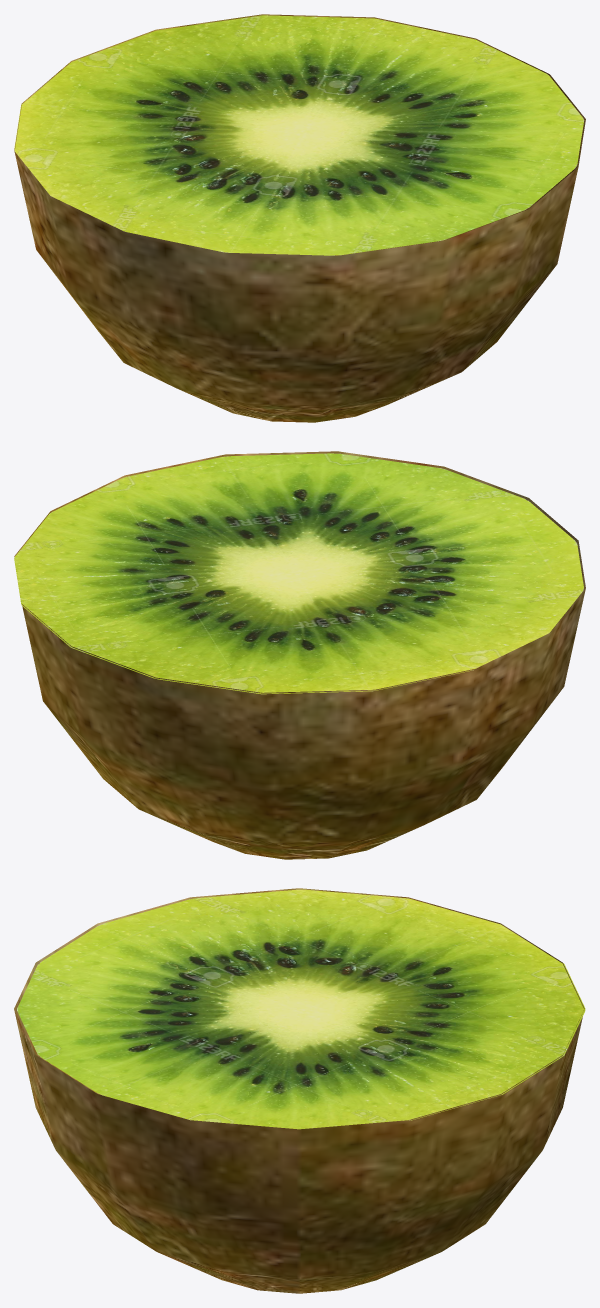
The model's file is kiwi.fbx.
3 views of the same model, one above another, from view 1: azimuth 30°, elevation 25°; view 2: azimuth 150°, elevation 25°; view 3: azimuth 270°, elevation 25° (orthographic).
Visible parts, largest first — view 1: Disc, Orange; view 2: Disc, Orange; view 3: Disc, Orange.
Boxes of the visible parts, bbox=[...] form: Disc: bbox=[14, 15, 584, 255]; Orange: bbox=[14, 14, 585, 422]; Disc: bbox=[14, 453, 583, 694]; Orange: bbox=[14, 451, 585, 859]; Disc: bbox=[17, 889, 585, 1129]; Orange: bbox=[14, 888, 584, 1293].
Bounding box in the file's own units: 200 × 100 × 200.
